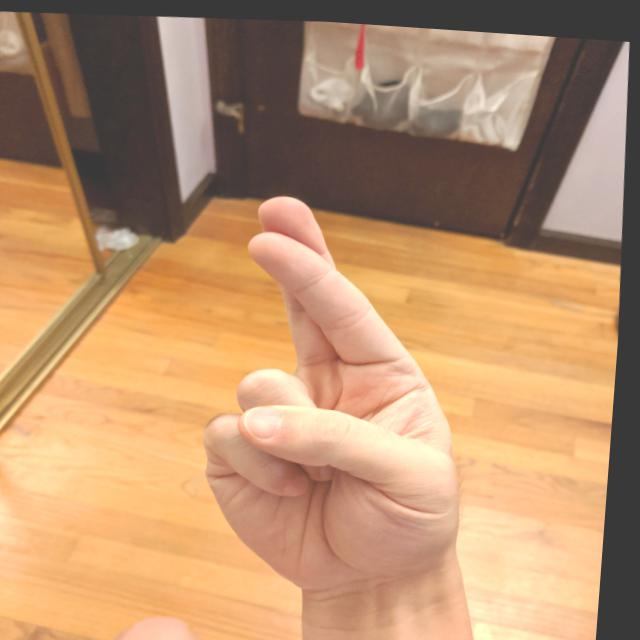R: (186, 176, 499, 603)
